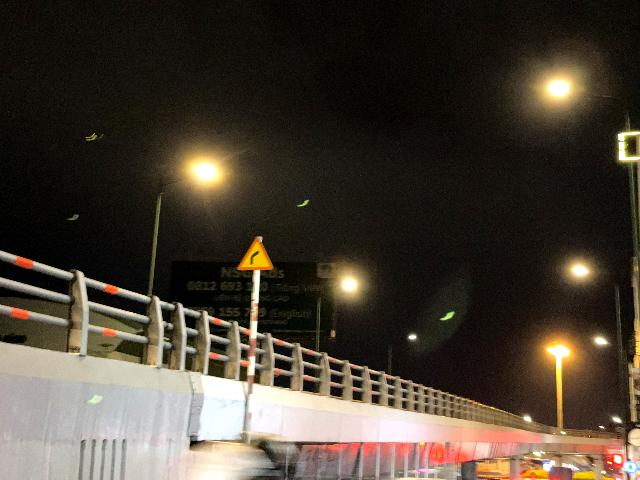cho-ngoat-nguy-hiem-ben-phai: (237, 235, 274, 270)
